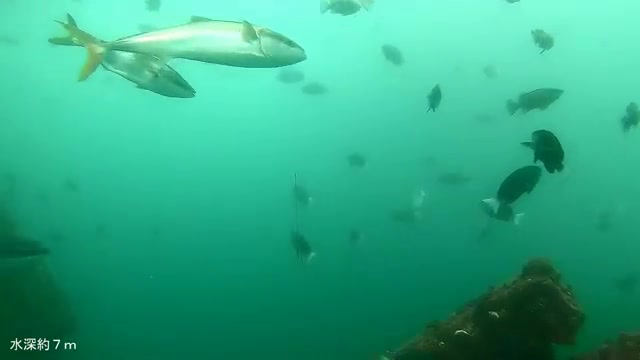hamati: (25, 13, 315, 86)
smallfish: (501, 72, 570, 122), (497, 157, 547, 222), (514, 127, 572, 173), (475, 195, 542, 233), (379, 38, 428, 85), (290, 227, 323, 272), (526, 25, 568, 59), (417, 80, 449, 121)
